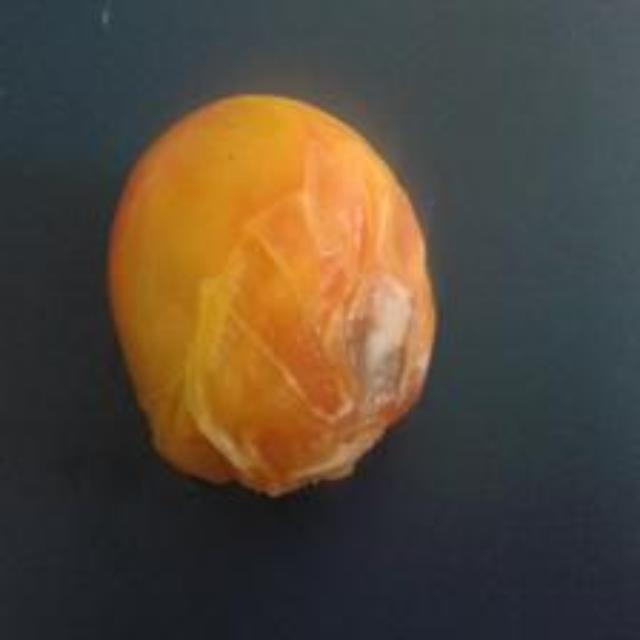defect: (100, 92, 441, 500)
